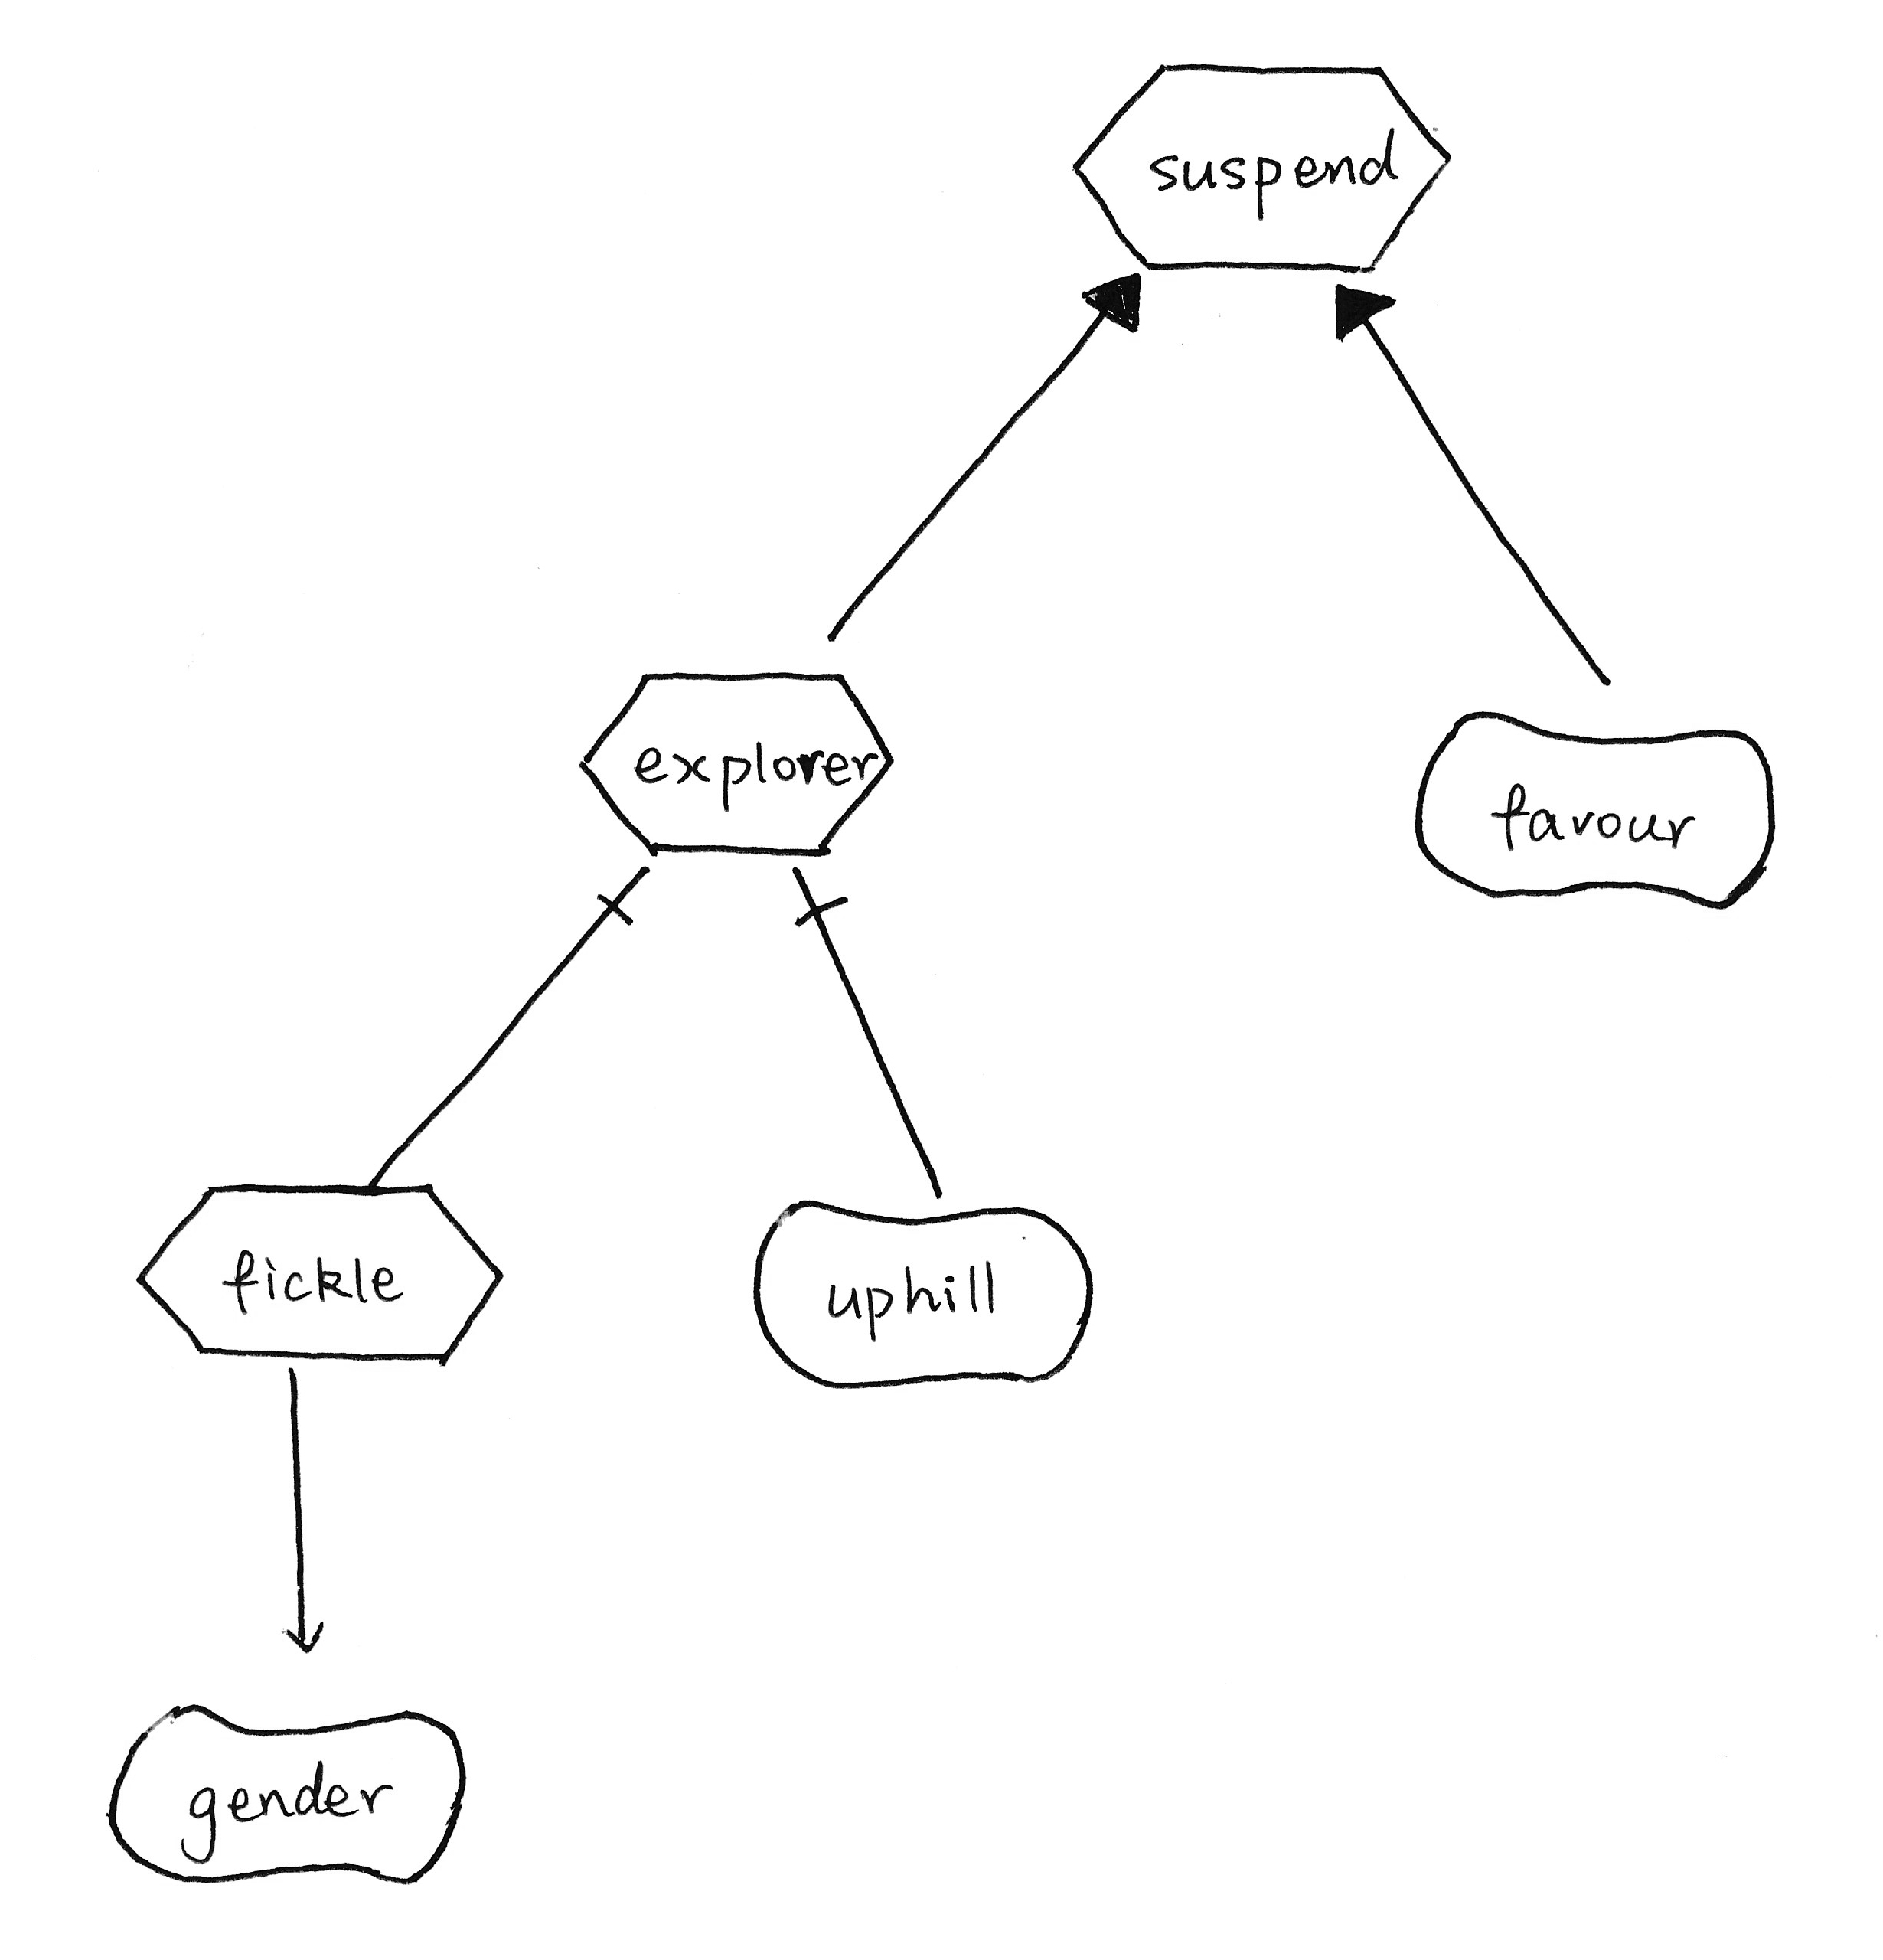and: (772, 850, 859, 938), (584, 850, 663, 934)
arrow: (266, 1603, 341, 1666)
or: (1298, 262, 1414, 353), (1066, 257, 1158, 343)
quality: (1395, 696, 1785, 924), (730, 1179, 1113, 1409), (89, 1685, 485, 1897)
task: (1052, 38, 1470, 290), (122, 1162, 525, 1386), (562, 644, 912, 878)
